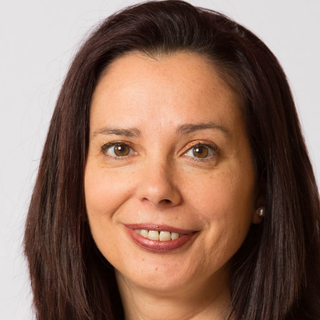eye: (172, 140, 224, 167), (95, 135, 143, 162)
